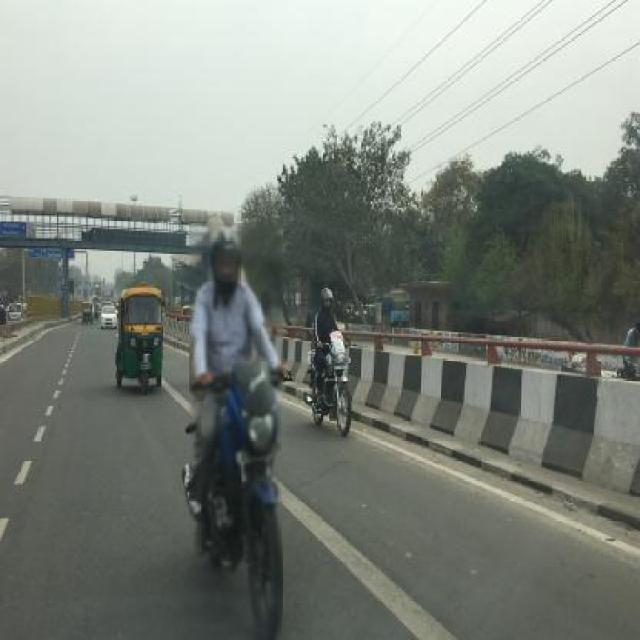helmet: (206, 238, 248, 298), (306, 277, 344, 316)
motorcycle: (184, 235, 303, 640), (291, 266, 367, 439)
